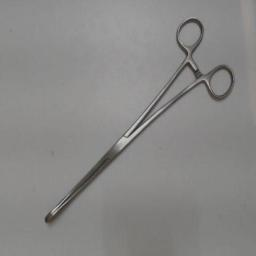Sponge Forceps: (40, 10, 238, 230)
